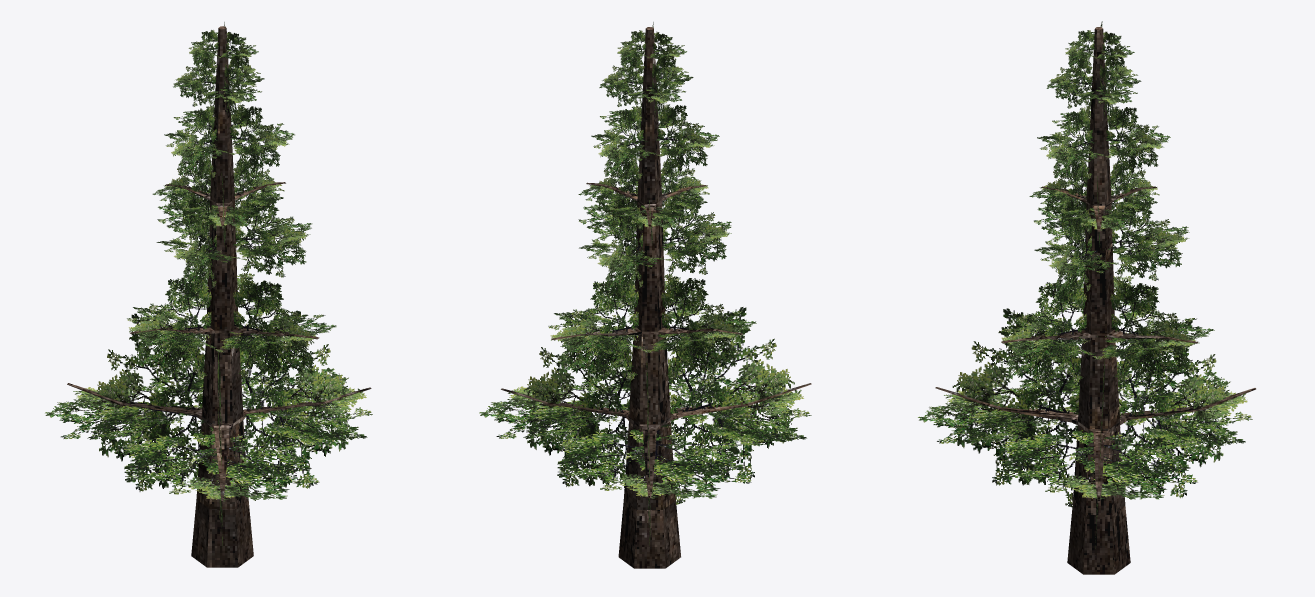
Rendered from pixel_tree_lowpoly.fbx.
The picture shows the model from 3 angles, left to right: view 1: azimuth 30°, elevation 25°; view 2: azimuth 150°, elevation 25°; view 3: azimuth 270°, elevation 25°; orthographic projection.
Visible parts, largest first — view 1: psx_foliage, psx_tree_log, psx_foliage2; view 2: psx_foliage, psx_tree_log, psx_foliage2; view 3: psx_foliage, psx_tree_log, psx_foliage2.
Boxes of the visible parts, x1=… form: psx_foliage: x1=45, y1=22, x2=372, y2=545; psx_tree_log: x1=67, y1=26, x2=371, y2=567; psx_foliage2: x1=50, y1=30, x2=370, y2=544; psx_foliage: x1=479, y1=22, x2=811, y2=547; psx_tree_log: x1=501, y1=27, x2=811, y2=568; psx_foliage2: x1=481, y1=23, x2=808, y2=540; psx_foliage: x1=918, y1=21, x2=1252, y2=548; psx_tree_log: x1=935, y1=27, x2=1255, y2=574; psx_foliage2: x1=922, y1=30, x2=1251, y2=528.
Size of the model in its own units: 1128 by 1863 by 1302.
